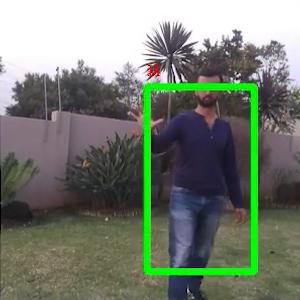follow_hand: (125, 93, 162, 138)
